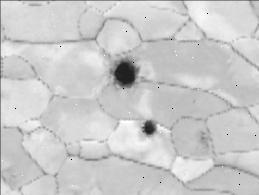good_void: (110, 58, 143, 88), (139, 115, 159, 138), (194, 128, 211, 152), (189, 98, 196, 105)
